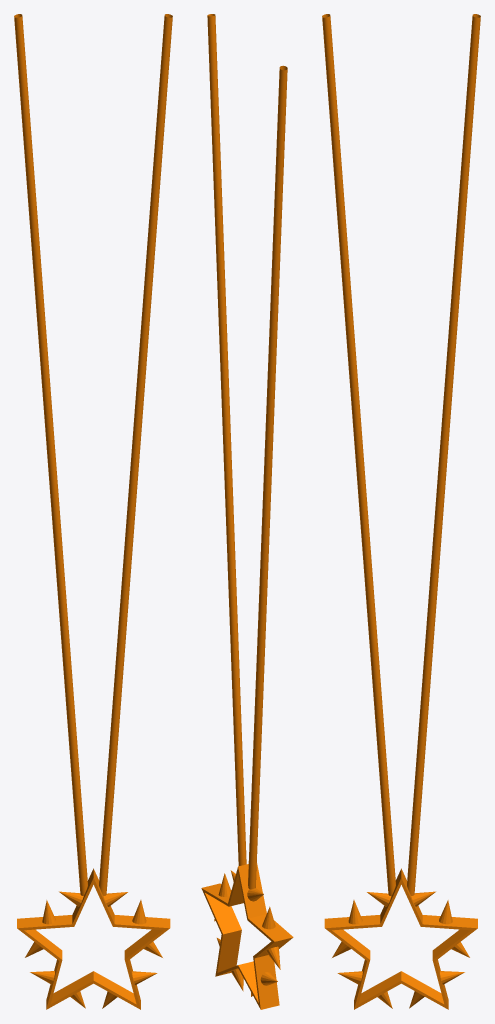
The model's file is cutter6_star.fbx.
The picture shows the model from 3 angles, left to right: view 1: azimuth 90°, elevation 25°; view 2: azimuth 210°, elevation 25°; view 3: azimuth 270°, elevation 25°; orthographic projection. The views are drawn at different scales.
Parts seen in each view (by area): view 1: Cutter6_Star; view 2: Cutter6_Star; view 3: Cutter6_Star.
Boxes of the visible parts, <box> form: Cutter6_Star: <box>14,14,172,1009</box>; Cutter6_Star: <box>201,14,293,1009</box>; Cutter6_Star: <box>322,14,480,1009</box>.
Size of the model in its own units: 16.77 by 813 by 118.
